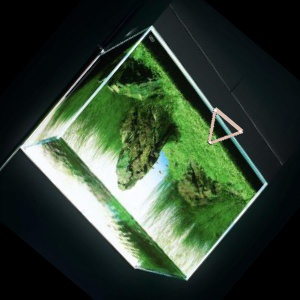triangle: (205, 104, 246, 146)
